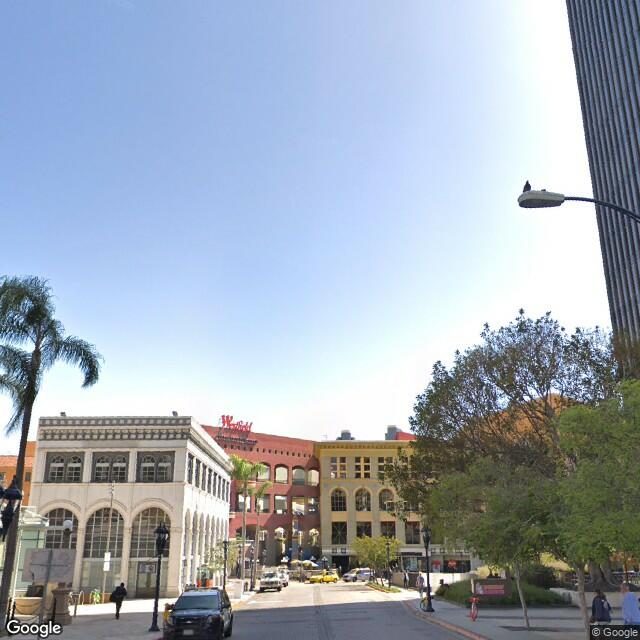light: (519, 192, 567, 210)
window: (133, 453, 170, 488), (52, 448, 80, 486)
